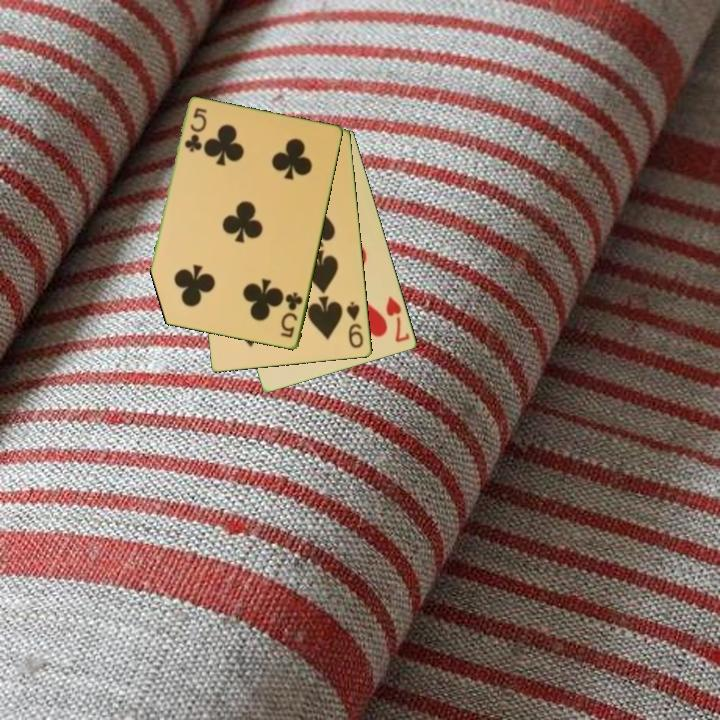5c: (278, 289, 306, 341), (181, 105, 209, 155)
7h: (383, 292, 413, 345)
9s: (343, 298, 366, 351)
